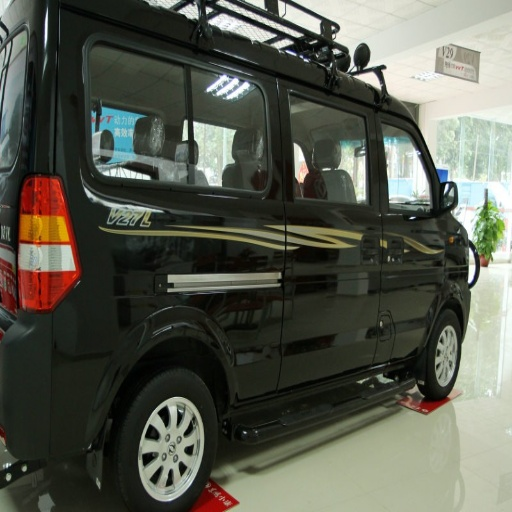back_bumper: (3, 321, 101, 431)
back_left_light: (0, 177, 51, 311)
back_right_door: (334, 131, 381, 264), (237, 348, 277, 397)
tailgate: (144, 117, 240, 155)
trunk: (182, 275, 276, 347), (42, 198, 119, 283), (112, 86, 193, 148)
